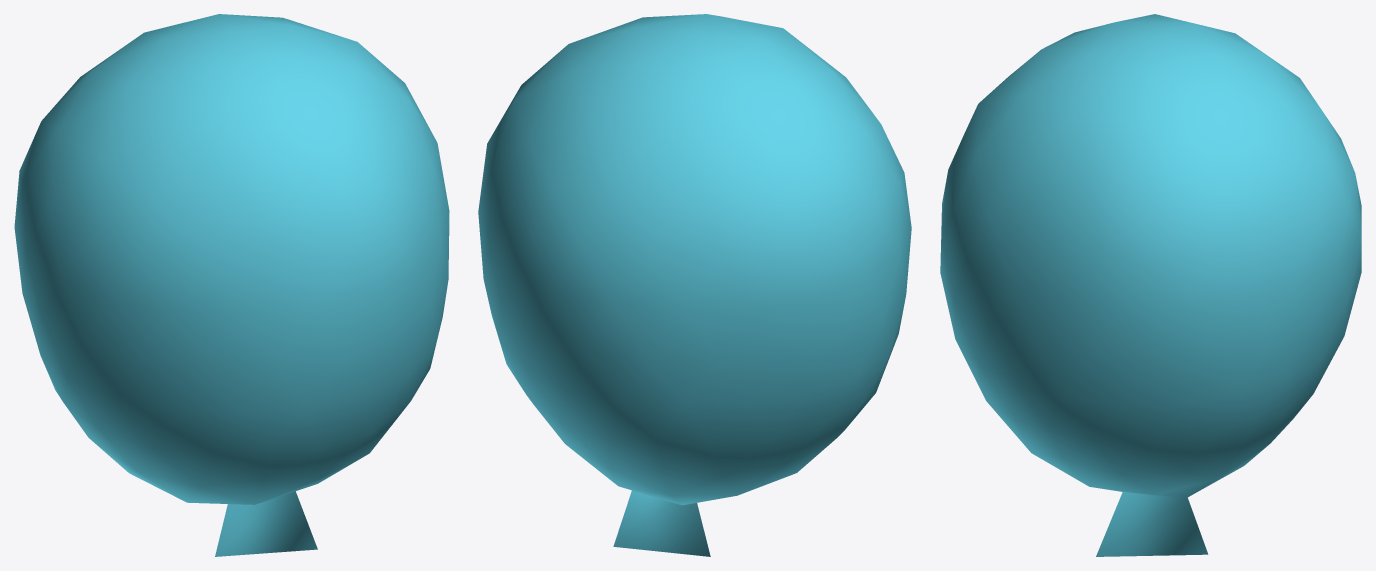
File: Ballon.glb
3 views of the same model, side by side, from view 1: azimuth 30°, elevation 25°; view 2: azimuth 150°, elevation 25°; view 3: azimuth 270°, elevation 25° (orthographic). The views are drawn at different scales.
Parts seen in each view (by area): view 1: Icosphere; view 2: Icosphere; view 3: Icosphere.
Part boxes in pixels (x1,y1,x2,y2): Icosphere: (14,14,449,556); Icosphere: (478,14,911,556); Icosphere: (940,14,1361,556).
Bounding box in the file's own units: 1.72 × 2.24 × 1.69.
